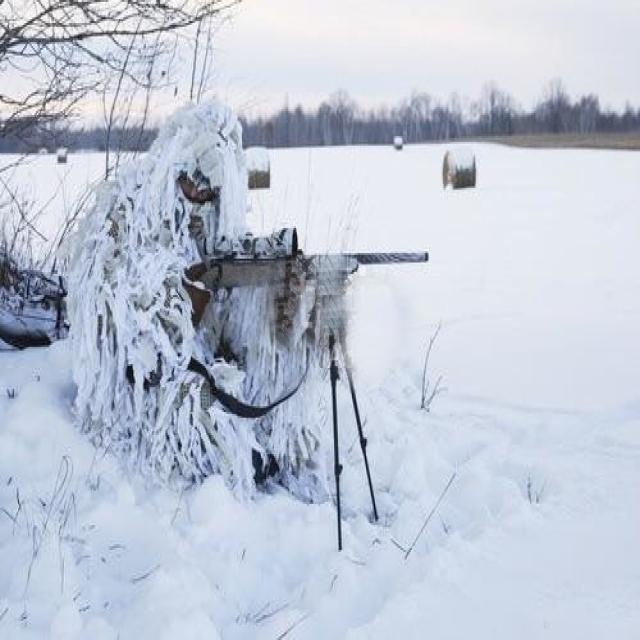Camouflage: (50, 97, 426, 551)
